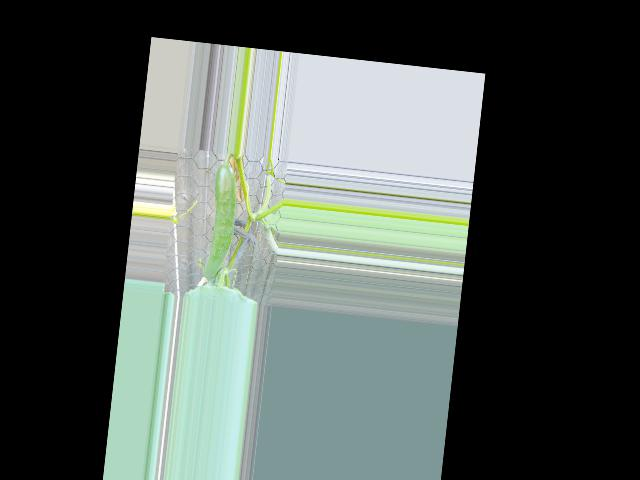cucumber: (203, 163, 241, 279)
